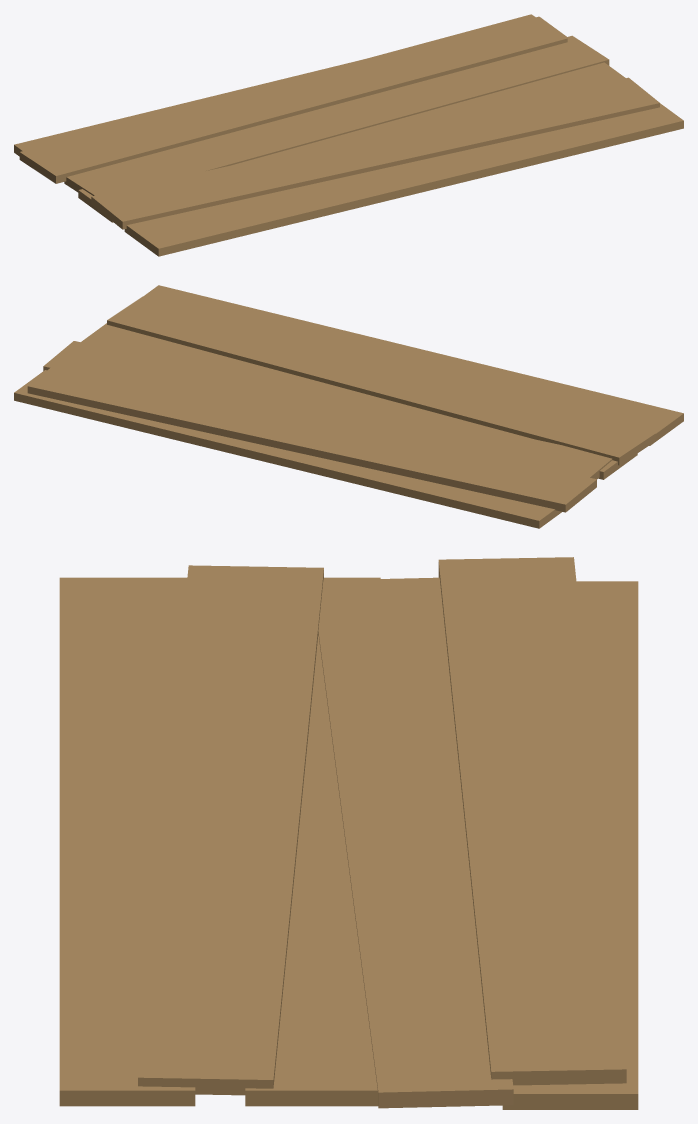
File: board_01_b.fbx
3 views of the same model, one above another, from view 1: azimuth 30°, elevation 25°; view 2: azimuth 150°, elevation 25°; view 3: azimuth 270°, elevation 25° (orthographic). The views are drawn at different scales.
Parts seen in each view (by area): view 1: Board_01_b; view 2: Board_01_b; view 3: Board_01_b.
Boxes of the visible parts, x1,y1,x2,y2 form: Board_01_b: [14, 14, 683, 256]; Board_01_b: [14, 285, 683, 528]; Board_01_b: [59, 557, 638, 1109].
Size of the model in its own units: 48.21 by 22.33 by 1.27.
